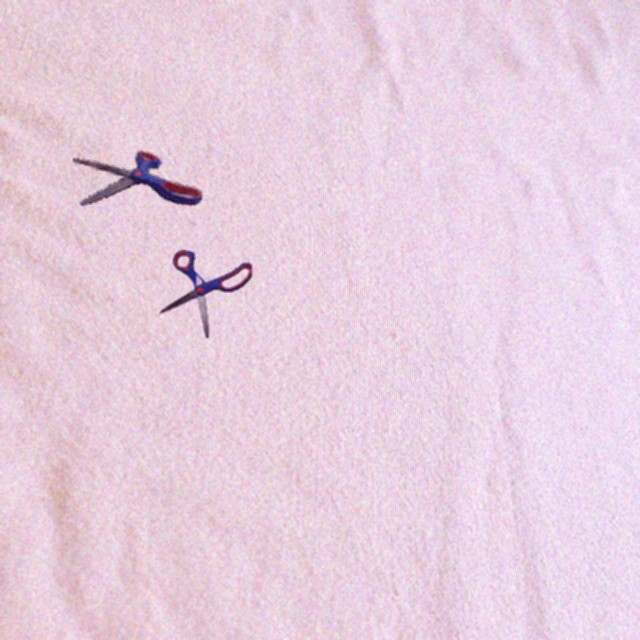scissors: (73, 150, 202, 239), (160, 250, 252, 338)
